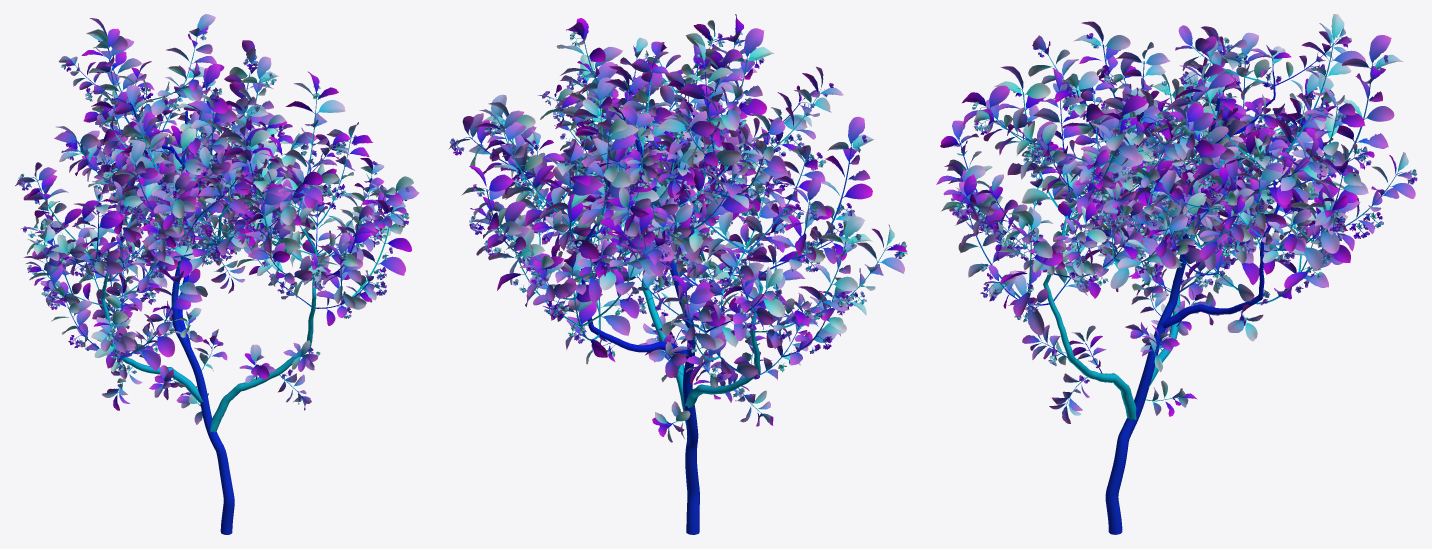
The model's file is European_Spindle_wk1ncbxja_Raw_wk1ncbxja_VarB_LOD0.fbx.
The picture shows the model from 3 angles, left to right: view 1: azimuth 30°, elevation 25°; view 2: azimuth 150°, elevation 25°; view 3: azimuth 270°, elevation 25°; orthographic projection. The views are drawn at different scales.
Visible parts, largest first — view 1: _ku6o_VarB_High; view 2: _ku6o_VarB_High; view 3: _ku6o_VarB_High.
Part boxes in pixels (box(x1,y1,x2,y2)): _ku6o_VarB_High: box(15, 14, 419, 534); _ku6o_VarB_High: box(448, 14, 907, 534); _ku6o_VarB_High: box(936, 14, 1417, 534).
Bounding box in the file's own units: 177 × 223 × 193.
